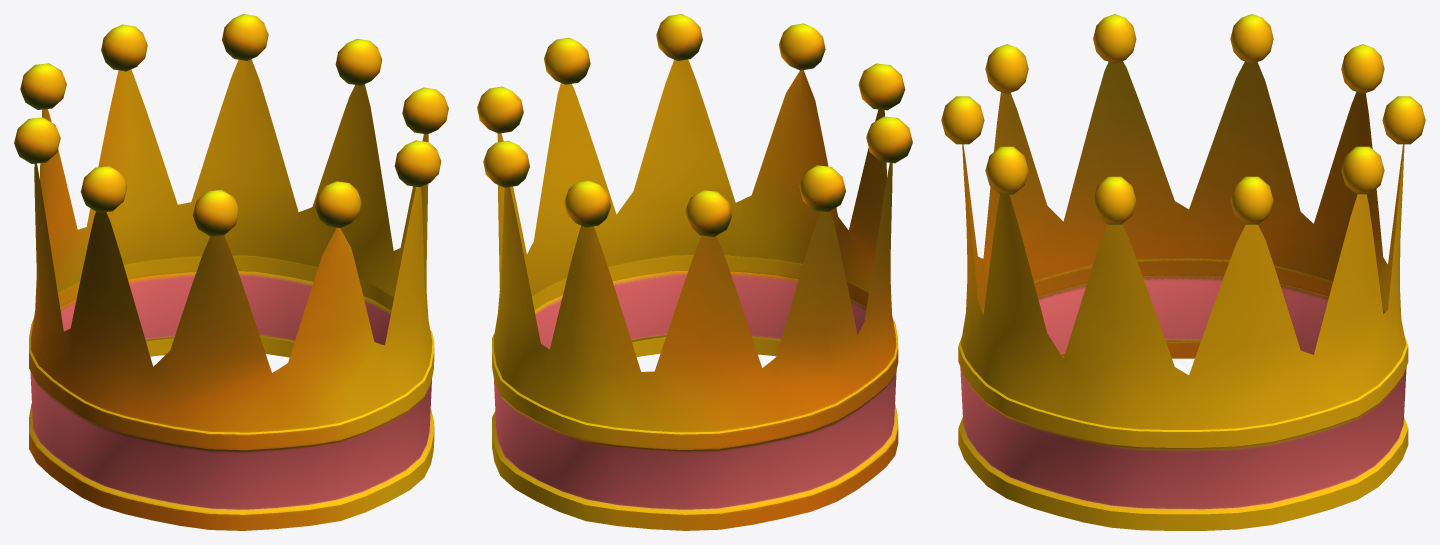
File: Crown.fbx
3 views of the same model, side by side, from view 1: azimuth 30°, elevation 25°; view 2: azimuth 150°, elevation 25°; view 3: azimuth 270°, elevation 25° (orthographic). The views are drawn at different scales.
Visible parts, largest first — view 1: Corona; view 2: Corona; view 3: Corona.
Boxes of the visible parts, x1,y1,x2,y2 form: Corona: (14, 14, 448, 530); Corona: (477, 14, 912, 530); Corona: (941, 14, 1425, 530).
Size of the model in its own units: 251 by 224 by 283.
